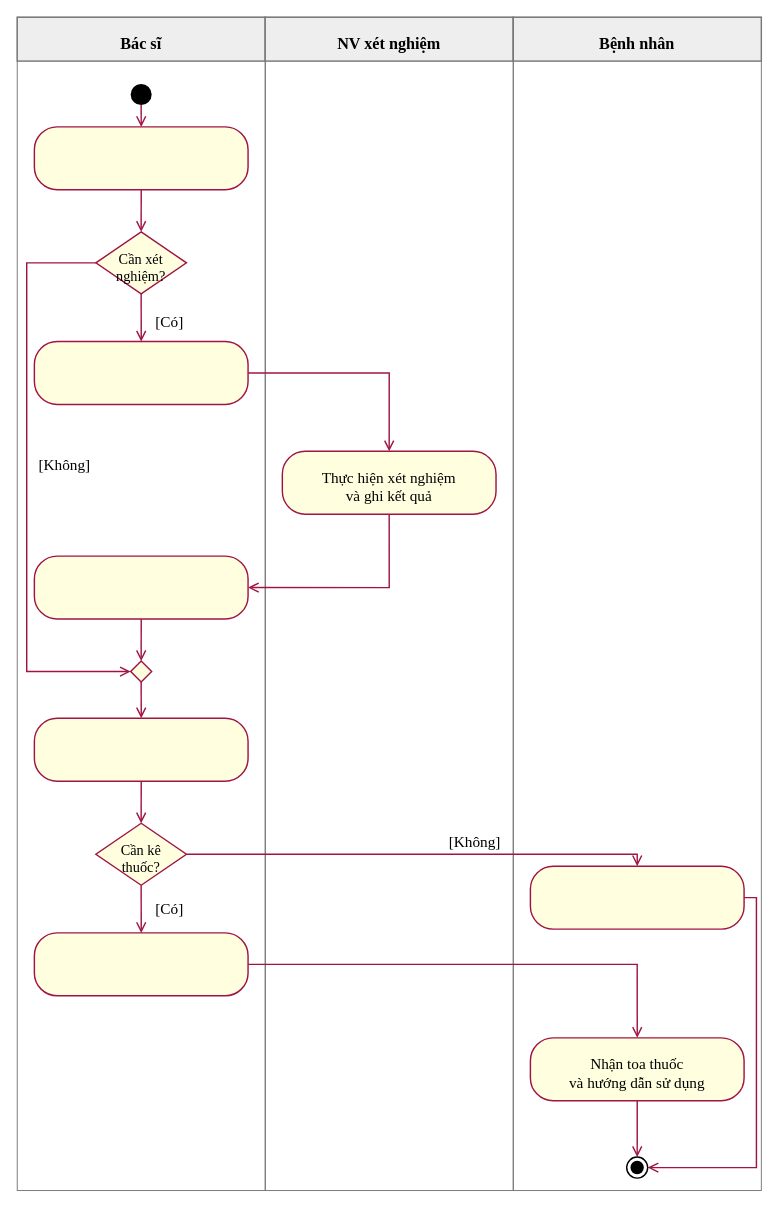
This 778x1208 diagram has some shape labels left out. The box of each missing label's shape, as (x1, y1, x2, y2) in pixels:
Ghi kết luận khám và hướng điều trị: (33, 717, 248, 781)
Lập chỉ định xét nghiệm cần thiết: (33, 340, 248, 405)
Lập toa, ghi liều dùng và lời dặn; xuất toa: (33, 932, 248, 996)
Nhận kết luận khám và hướng dẫn theo dõi: (529, 865, 744, 929)
Xem hồ sơ, khám và ghi nhận triệu chứng: (33, 126, 248, 190)
Đọc kết quả xét nghiệm: (33, 555, 248, 619)
